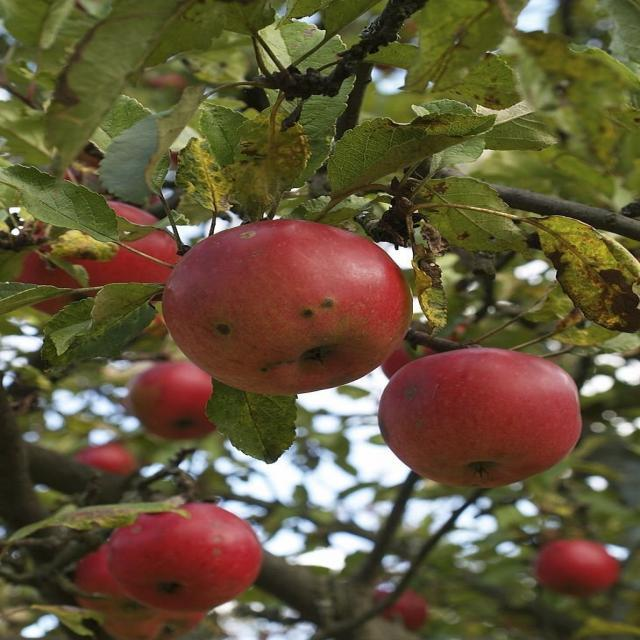Red Apple: (175, 224, 403, 363), (400, 357, 578, 459), (34, 216, 179, 299), (124, 509, 251, 603), (79, 554, 205, 640), (140, 363, 226, 426), (547, 542, 617, 590), (85, 445, 133, 476), (391, 592, 432, 622)
